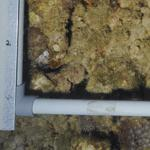dead: (2, 1, 148, 145)
